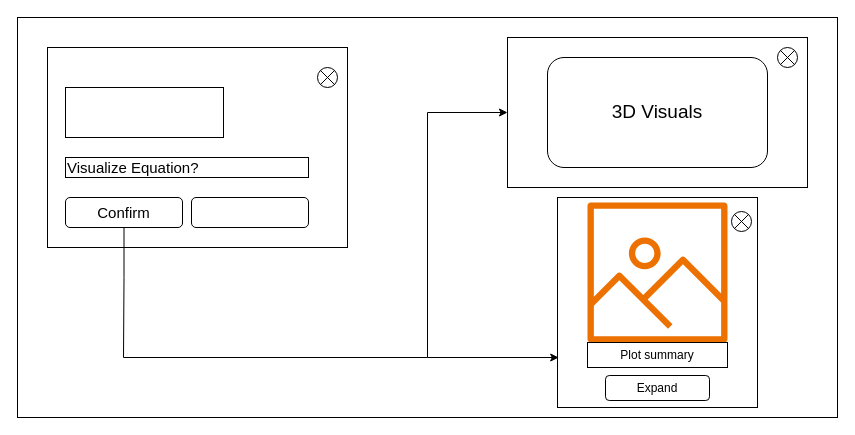
Image size: 855x435. Some labels were removed from this diagram. Each missing label, with the centre of its shape:
Equation Identified: the point at 144,112
Ignore: the point at 249,212
